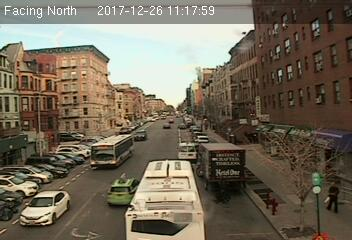bus: (122, 159, 208, 240), (89, 134, 135, 171)
car: (19, 189, 72, 225), (106, 175, 145, 207), (134, 128, 145, 140)
pedestrian: (327, 179, 342, 219)
truck: (198, 143, 244, 191), (176, 142, 197, 160)
